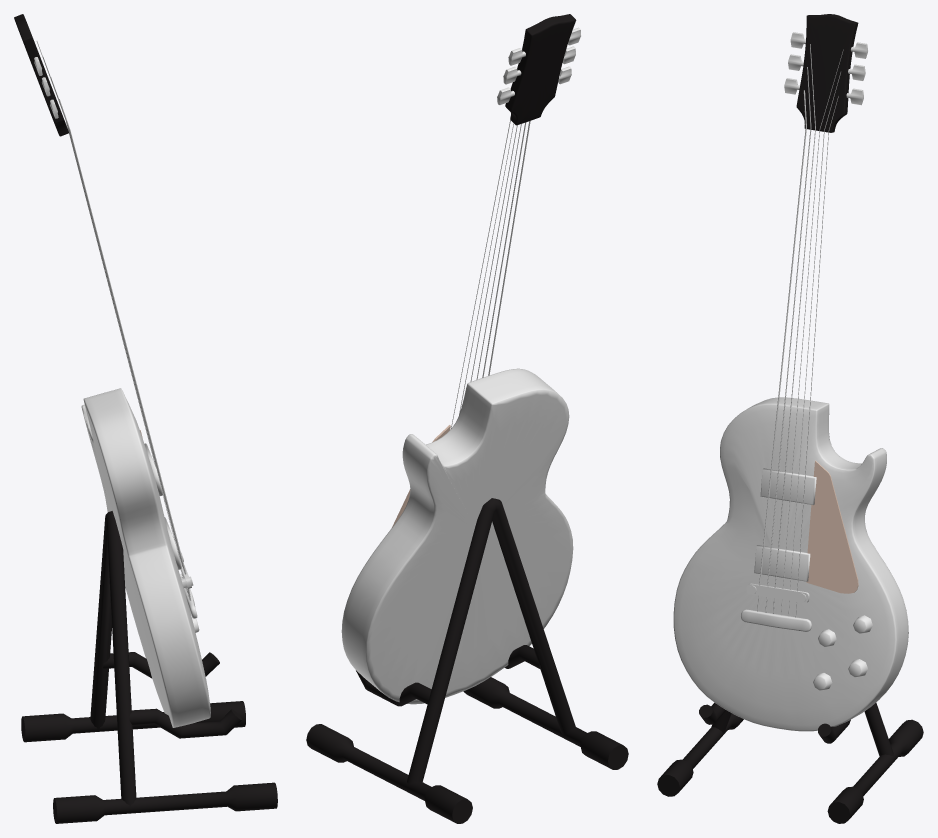
Rendered from elec_guitar_3.glb.
3 views of the same model, side by side, from view 1: azimuth 30°, elevation 25°; view 2: azimuth 150°, elevation 25°; view 3: azimuth 270°, elevation 25° (orthographic). The views are drawn at different scales.
Visible parts, largest first — view 1: Vert.041, Stand.004, Vert.043, Plane.101; view 2: Vert.041, Stand.004, Plane.101, Vert.043; view 3: Vert.041, Stand.004, Plane.101, Vert.043, Vert.042, Plane.102, Plane.103, Plane.104.
Boxes of the visible parts, bbox=[...] form: Vert.041: bbox=[81, 388, 210, 727]; Stand.004: bbox=[21, 511, 277, 823]; Vert.043: bbox=[36, 41, 190, 600]; Plane.101: bbox=[14, 14, 68, 136]; Vert.041: bbox=[341, 368, 573, 704]; Stand.004: bbox=[306, 498, 628, 823]; Plane.101: bbox=[505, 14, 576, 125]; Vert.043: bbox=[451, 120, 530, 428]; Vert.041: bbox=[673, 397, 908, 731]; Stand.004: bbox=[657, 702, 923, 823]; Plane.101: bbox=[796, 14, 858, 132]; Vert.043: bbox=[757, 44, 843, 617]; Vert.042: bbox=[806, 460, 858, 593]; Plane.102: bbox=[754, 468, 816, 581]; Plane.103: bbox=[740, 609, 811, 631]; Plane.104: bbox=[746, 583, 809, 602].
Size of the model in its own units: 0.9335 by 2.73 by 0.9302.
